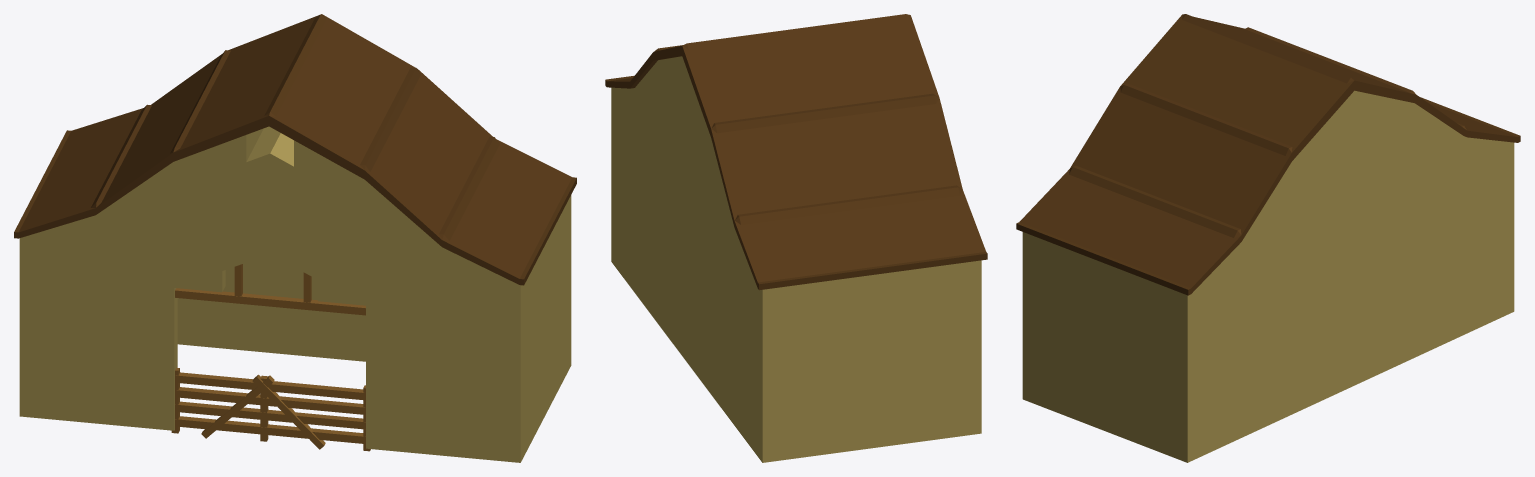
The model's file is barn.fbx.
The picture shows the model from 3 angles, left to right: view 1: azimuth 30°, elevation 25°; view 2: azimuth 150°, elevation 25°; view 3: azimuth 270°, elevation 25°; orthographic projection. The views are drawn at different scales.
Visible parts, largest first — view 1: Cube, Cube.003; view 2: Cube; view 3: Cube.
Boxes of the visible parts, <box> form: Cube: <box>14,14,576,462</box>; Cube.003: <box>171,264,370,451</box>; Cube: <box>605,14,987,462</box>; Cube: <box>1016,14,1520,462</box>.
Size of the model in its own units: 1129 by 753 by 1093.
